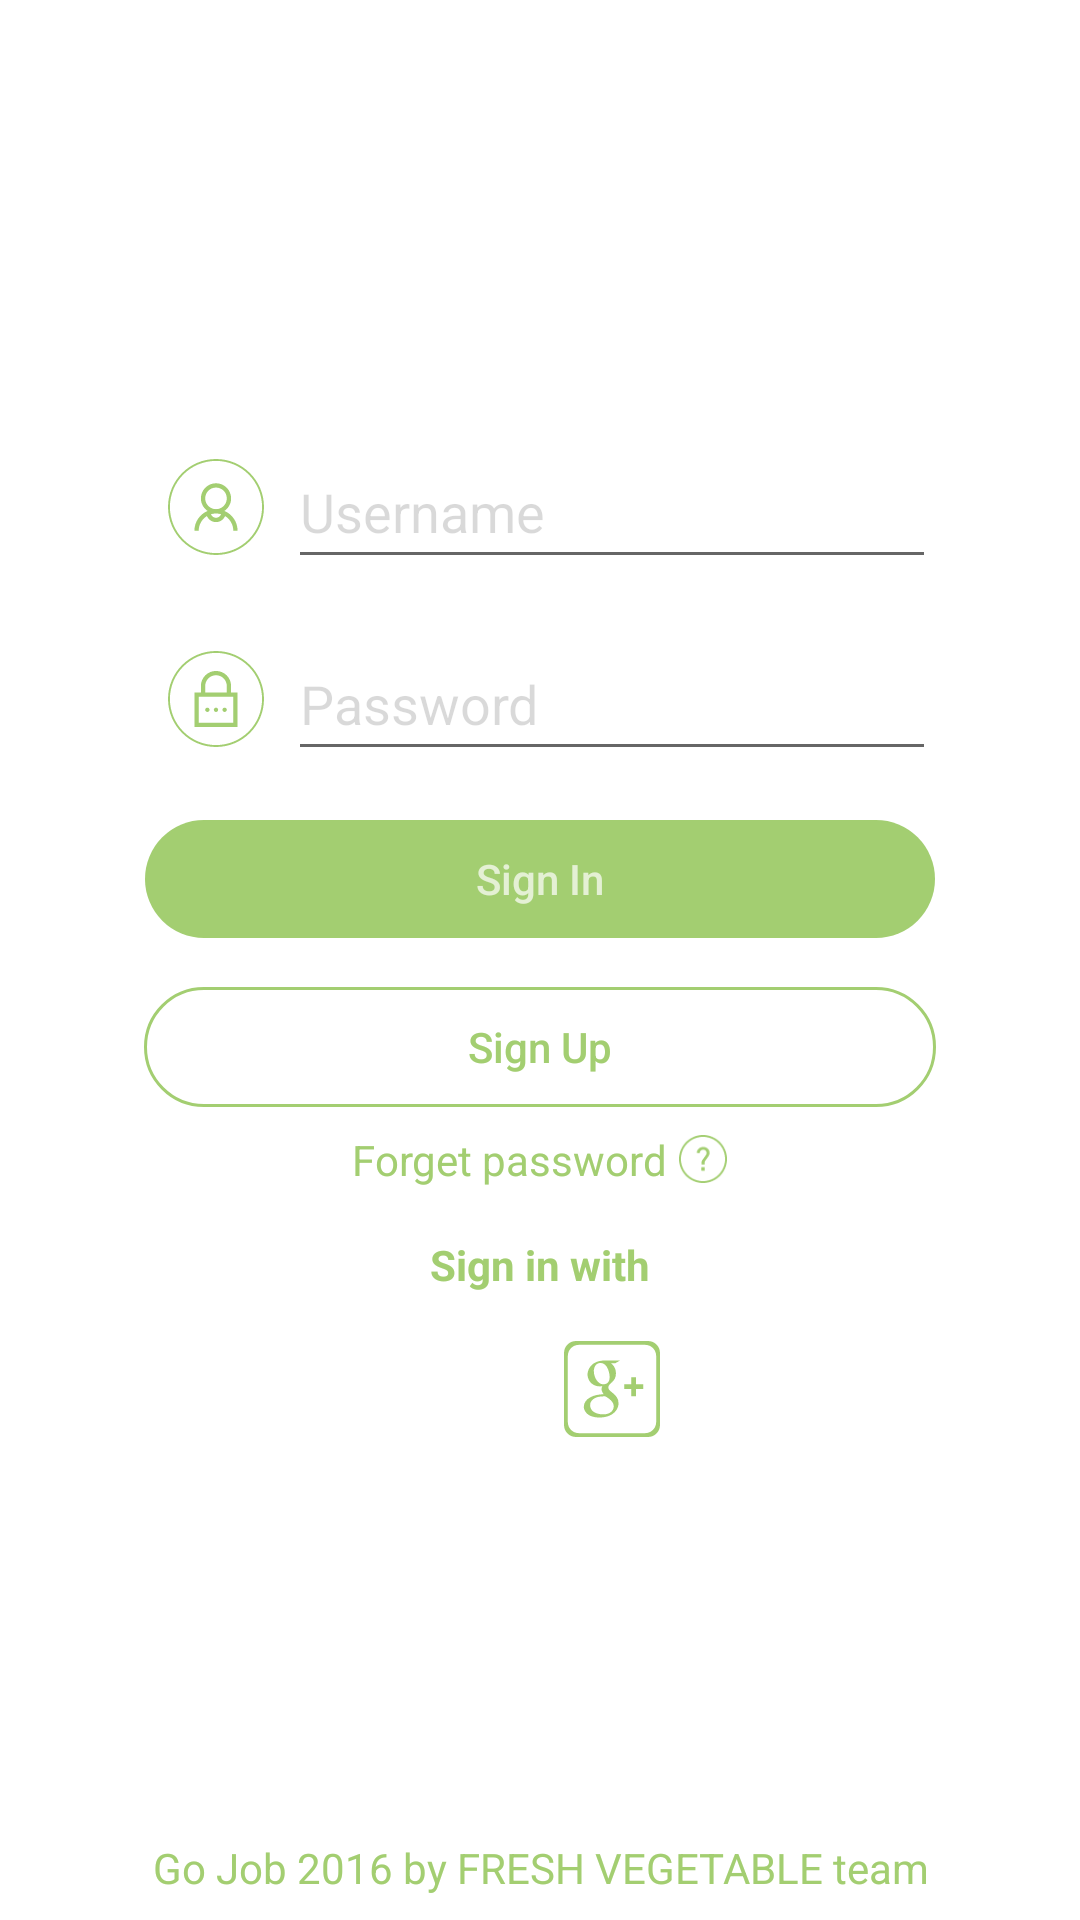

Icon bounding boxes for this 1080×1920 phone screenshot, format Rect(x1, y1, x2, y2):
help: Rect(679, 1135, 727, 1183)
